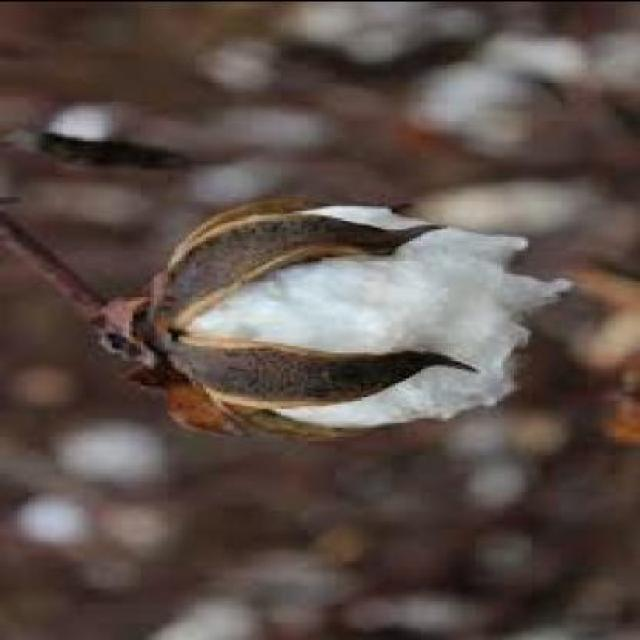cotton_ready: (119, 190, 535, 508)
